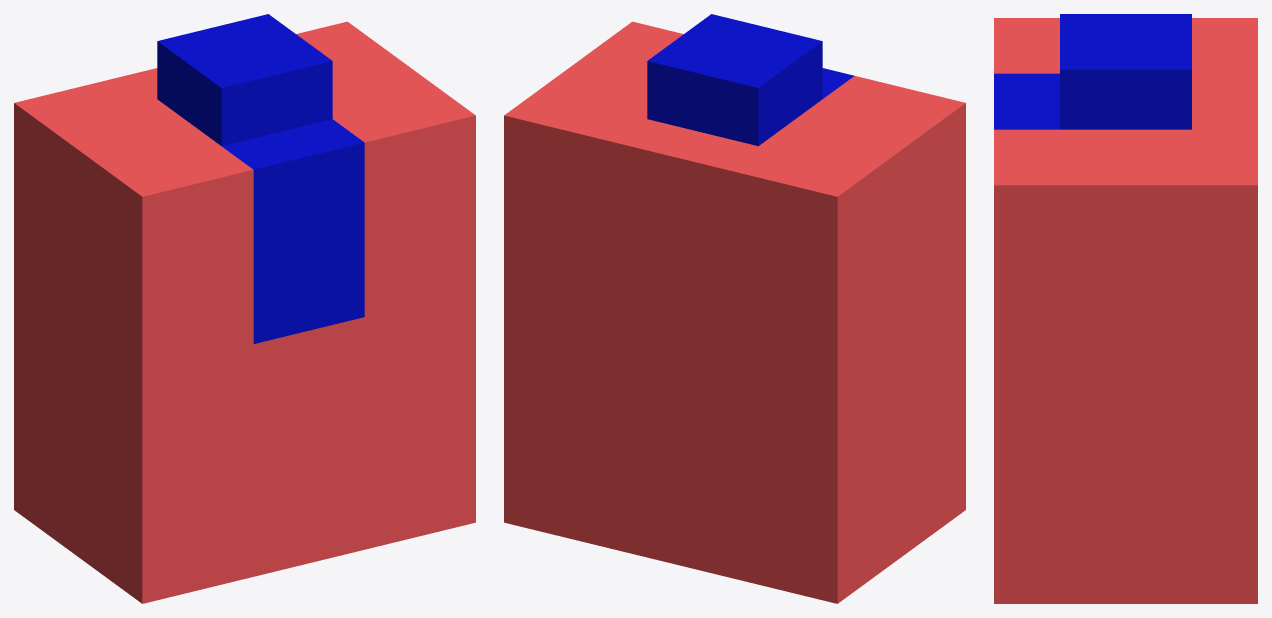
The model's file is TorsoTemplate.obj.
The picture shows the model from 3 angles, left to right: view 1: azimuth 30°, elevation 25°; view 2: azimuth 150°, elevation 25°; view 3: azimuth 270°, elevation 25°; orthographic projection. The views are drawn at different scales.
Parts seen in each view (by area): view 1: Torso; view 2: Torso; view 3: Torso.
Boxes of the visible parts, bbox=[...] form: Torso: bbox=[14, 14, 475, 603]; Torso: bbox=[504, 14, 965, 603]; Torso: bbox=[994, 14, 1257, 603].
Bounding box in the file's own units: 0.6 × 0.8 × 0.4.
Materials: 1 (1 with a texture image).
